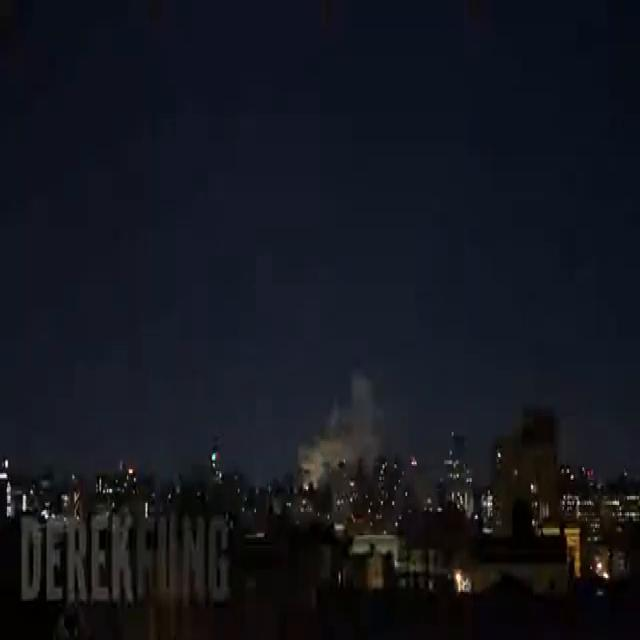smoke: (298, 373, 381, 484)
